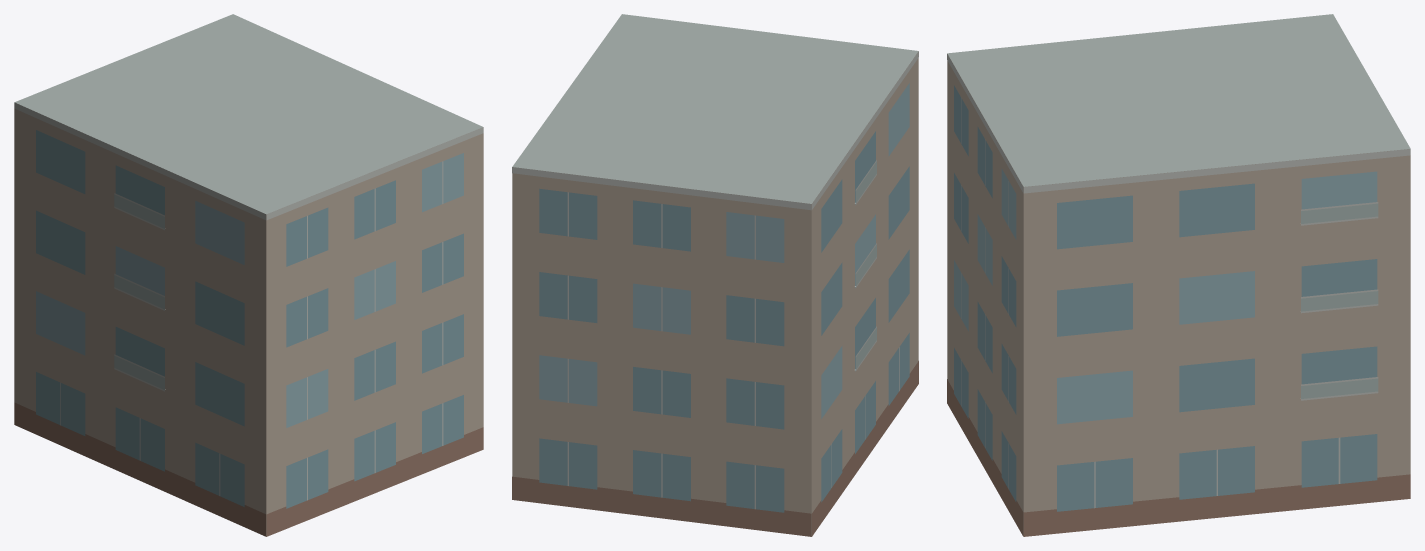
Rendered from survey-upis-32704107.glb.
3 views of the same model, side by side, from view 1: azimuth 30°, elevation 25°; view 2: azimuth 150°, elevation 25°; view 3: azimuth 270°, elevation 25° (orthographic). The views are drawn at different scales.
Parts seen in each view (by area): view 1: survey-upis-32704107.tmp; view 2: survey-upis-32704107.tmp; view 3: survey-upis-32704107.tmp.
Part boxes in pixels (left/top/right/bottom): survey-upis-32704107.tmp: left=14, top=14, right=483, bottom=536; survey-upis-32704107.tmp: left=512, top=14, right=918, bottom=536; survey-upis-32704107.tmp: left=947, top=14, right=1410, bottom=536.
Size of the model in its own units: 13.68 by 12.9 by 15.5.
